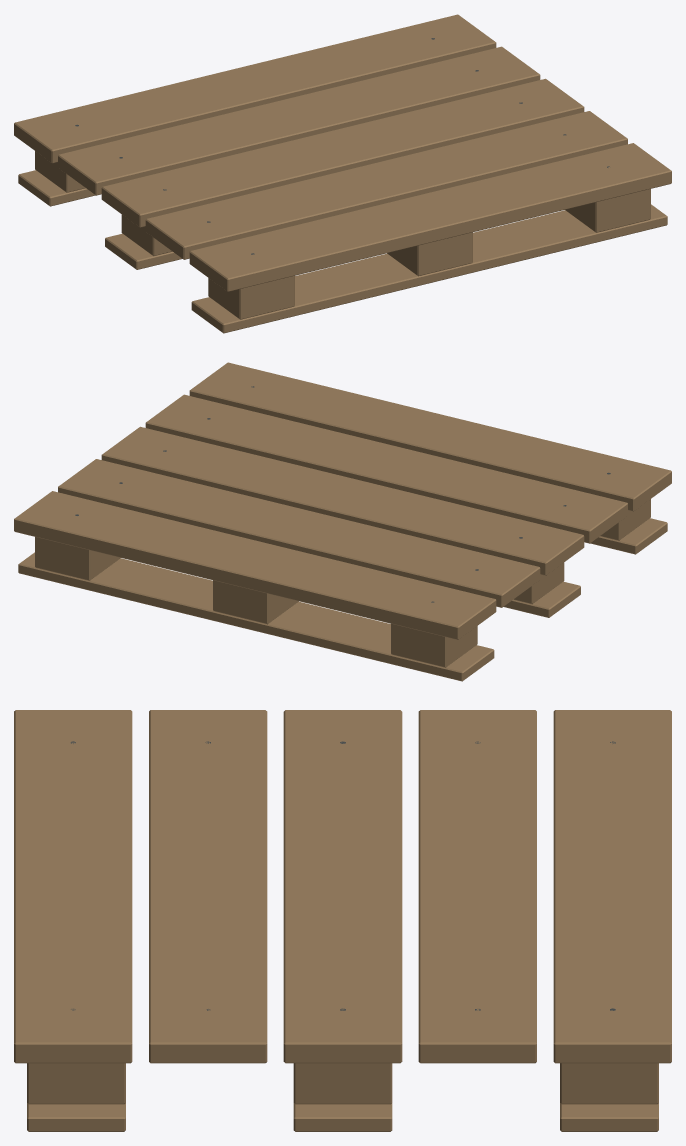
Rendered from SM_LS_Pallet.fbx.
3 views of the same model, one above another, from view 1: azimuth 30°, elevation 25°; view 2: azimuth 150°, elevation 25°; view 3: azimuth 270°, elevation 25° (orthographic). The views are drawn at different scales.
Visible parts, largest first — view 1: SM_LS_Pallet; view 2: SM_LS_Pallet; view 3: SM_LS_Pallet.
Part boxes in pixels (x1,y1,x2,y2): SM_LS_Pallet: [14, 14, 671, 333]; SM_LS_Pallet: [14, 362, 671, 681]; SM_LS_Pallet: [14, 710, 671, 1131].
Size of what is drawn, in the model's own units: 1.2 by 1 by 0.15.
